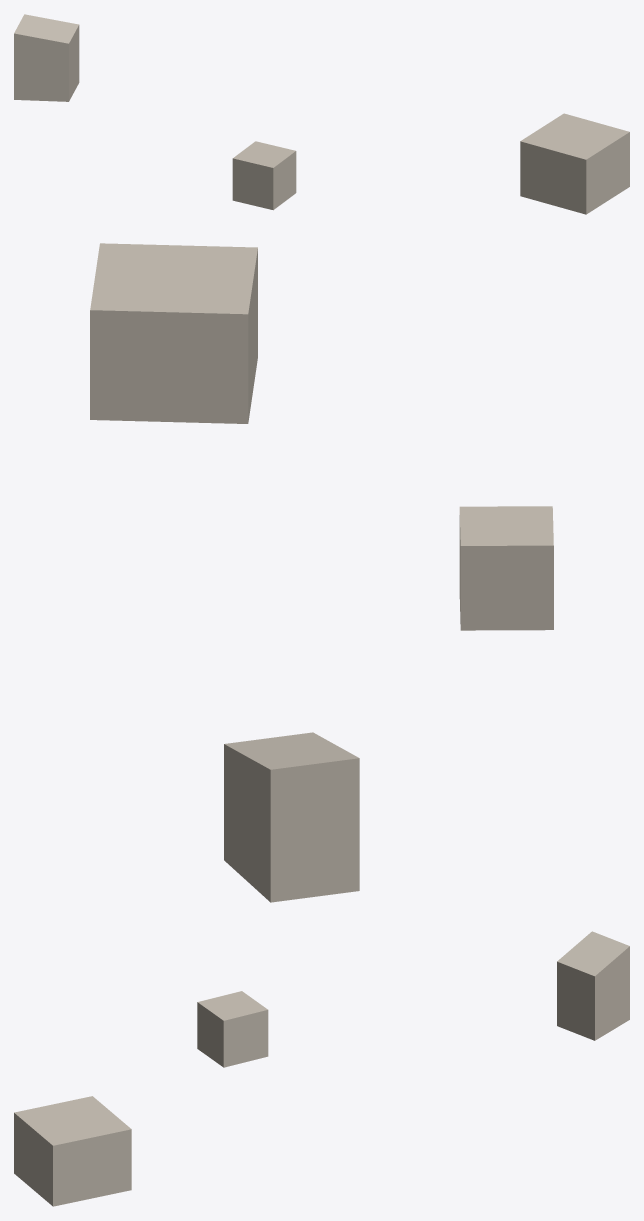
Rendered from Rocks_Square_s_04.fbx.
The picture shows the model from 3 angles, top to bottom: view 1: azimuth 30°, elevation 25°; view 2: azimuth 150°, elevation 25°; view 3: azimuth 270°, elevation 25°; orthographic projection. The views are drawn at different scales.
Visible parts, largest first — view 1: Rocks_Square_s_04; view 2: Rocks_Square_s_04; view 3: Rocks_Square_s_04.
Part boxes in pixels (bbox=[...]): Rocks_Square_s_04: bbox=[14, 14, 629, 214]; Rocks_Square_s_04: bbox=[90, 243, 553, 902]; Rocks_Square_s_04: bbox=[14, 931, 629, 1206].
Size of the model in its own units: 59.9 by 10.19 by 77.28.
